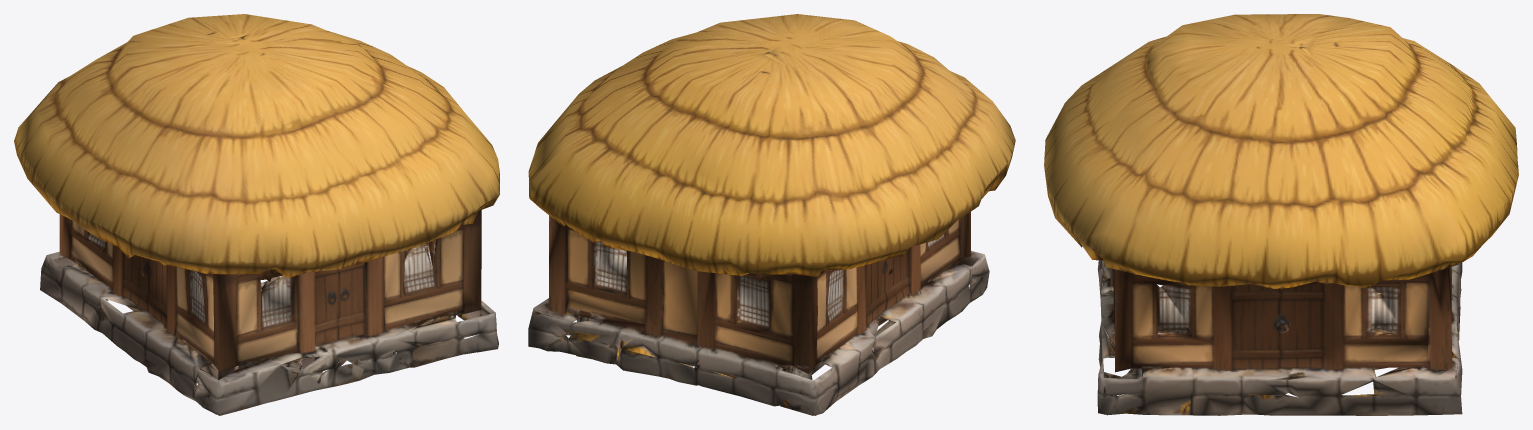
File: choga.glb
The picture shows the model from 3 angles, left to right: view 1: azimuth 30°, elevation 25°; view 2: azimuth 150°, elevation 25°; view 3: azimuth 270°, elevation 25°; orthographic projection. The views are drawn at different scales.
Parts seen in each view (by area): view 1: low; view 2: low; view 3: low.
Boxes of the visible parts, left/top/right/bottom form: low: left=14, top=14, right=499, bottom=415; low: left=528, top=14, right=1015, bottom=415; low: left=1044, top=14, right=1518, bottom=415.
Bounding box in the file's own units: 1 × 0.6703 × 1.
1 material, 1 textured.
